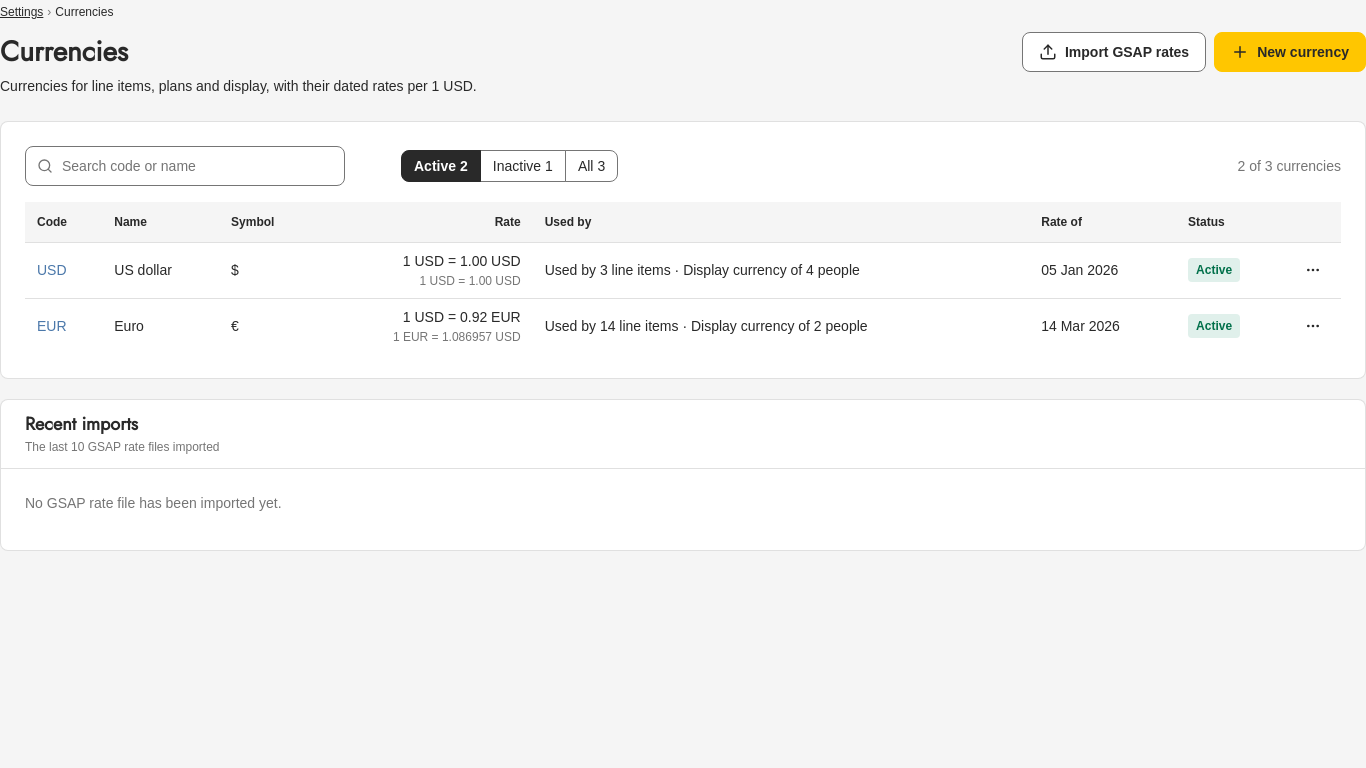
Scenario: CurrenciesPage: details (US4 scenarios 2 and 4) › shows the rate both ways, where it is used and who last changed the rate
Click the button "EUR" at (52, 326), box [37,316,67,336]
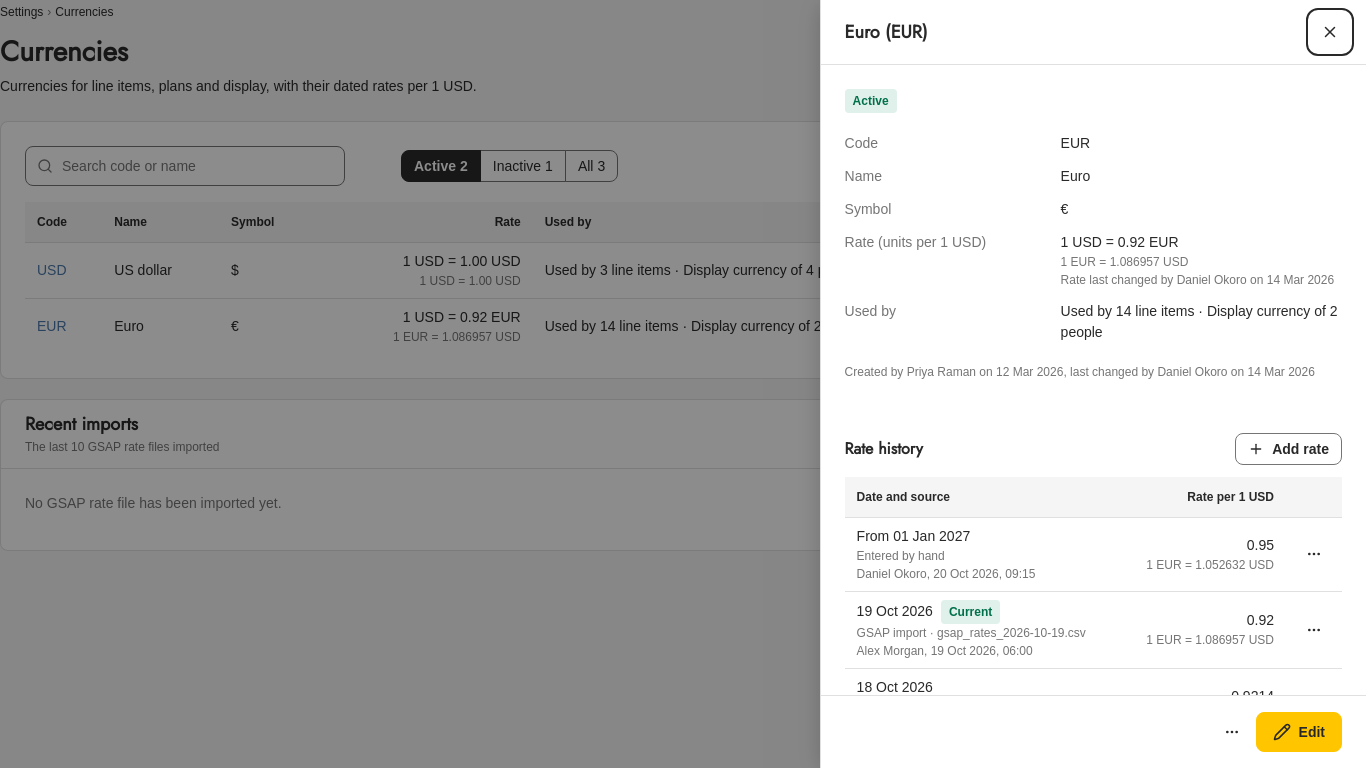
Expected: the dialog "Euro (EUR)" shows "1 USD = 0.92 EUR", [1061,234,1178,250]
Expected: the dialog "Euro (EUR)" shows "1 EUR = 1.086957 USD", [1061,255,1188,269]
Expected: the dialog "Euro (EUR)" shows "Rate last changed by Daniel Okoro on 14 Mar 2026", [1061,273,1334,287]
